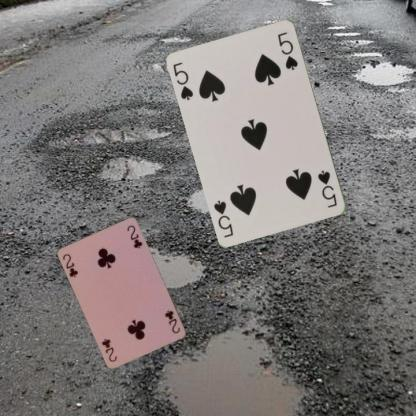2c: (60, 250, 79, 279), (162, 308, 181, 334)
5s: (170, 60, 196, 102), (315, 168, 338, 209)
